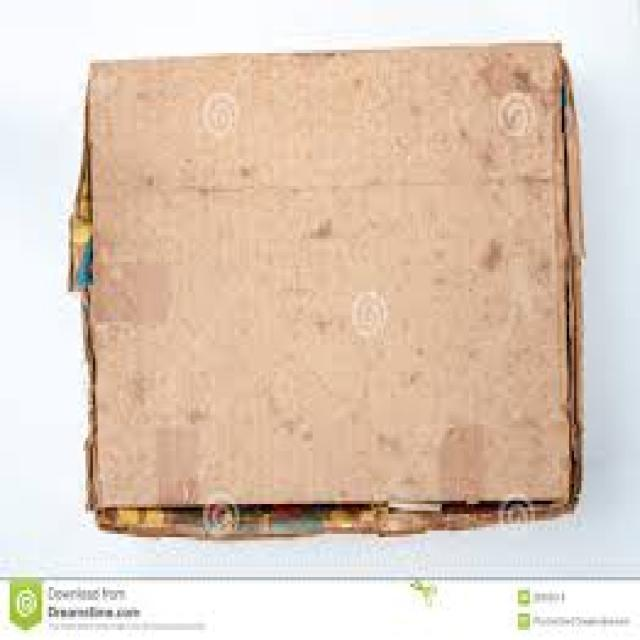Cardboard: (70, 40, 586, 541)
